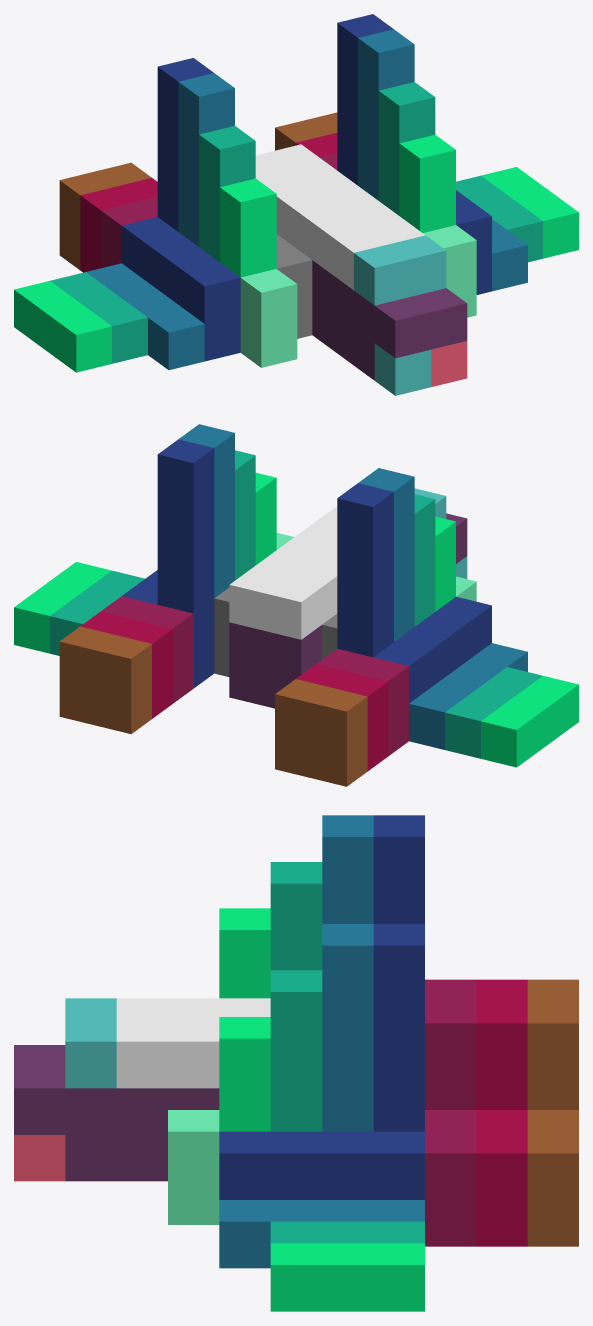
File: naves-0.obj
3 renders of one model, top to bottom at view 1: azimuth 30°, elevation 25°; view 2: azimuth 150°, elevation 25°; view 3: azimuth 270°, elevation 25°, orthographic. The views are drawn at different scales.
Bounding box in the file's own units: 1.4 × 0.6 × 1.1.
1 material, 1 textured.
